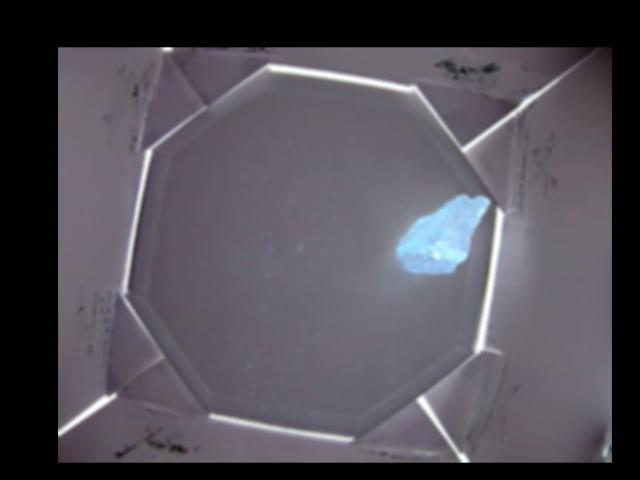Brisk: (397, 194, 494, 271)
